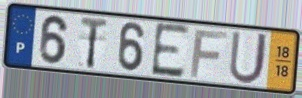6: (37, 14, 70, 66), (117, 21, 147, 73)
E: (149, 21, 192, 81)
F: (188, 28, 230, 80)
T: (79, 15, 110, 71)
U: (227, 29, 270, 86)
